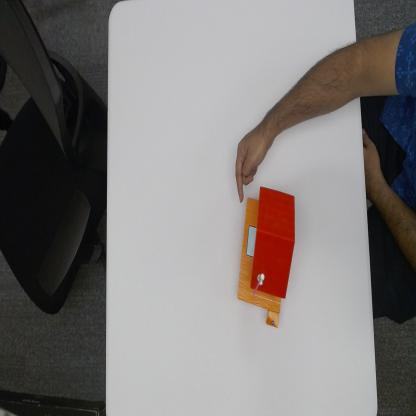Arm: (279, 43, 362, 125)
Hand: (235, 119, 278, 192)
House: (238, 186, 295, 329)
